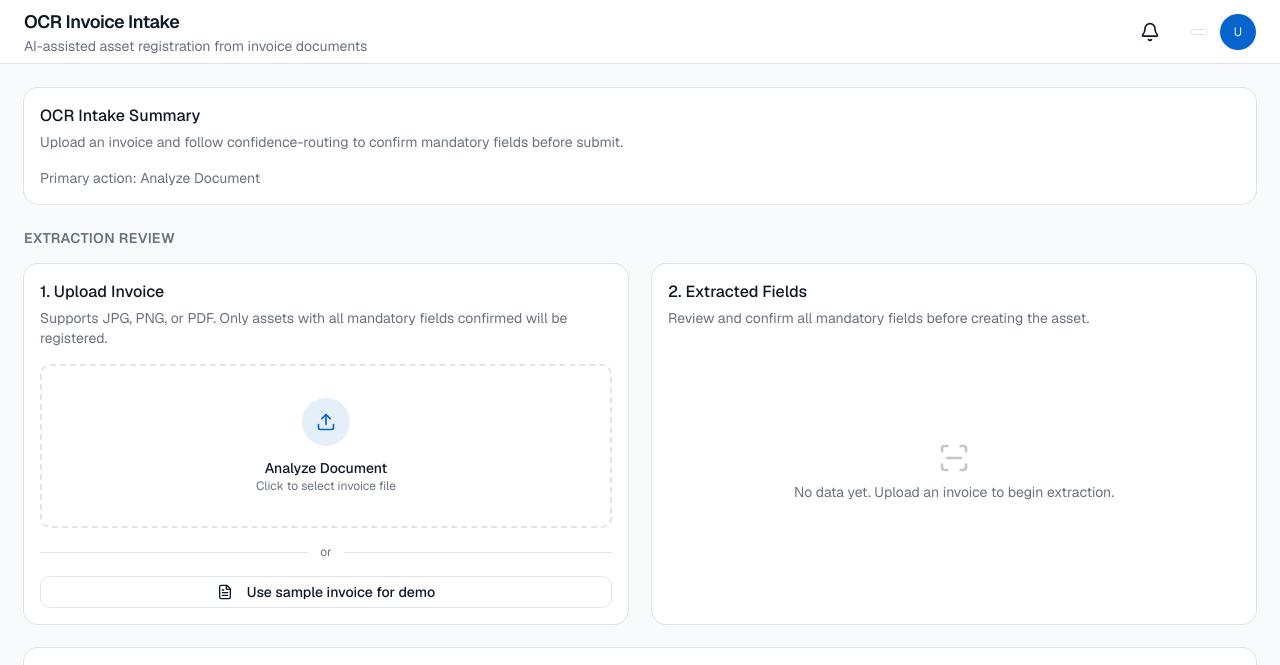
it: OcrPage governance hierarchy and provenance › shows shared Correlation ID label in extraction metadata
Click the button "Use sample invoice for demo" at (326, 592), box [40, 576, 612, 608]
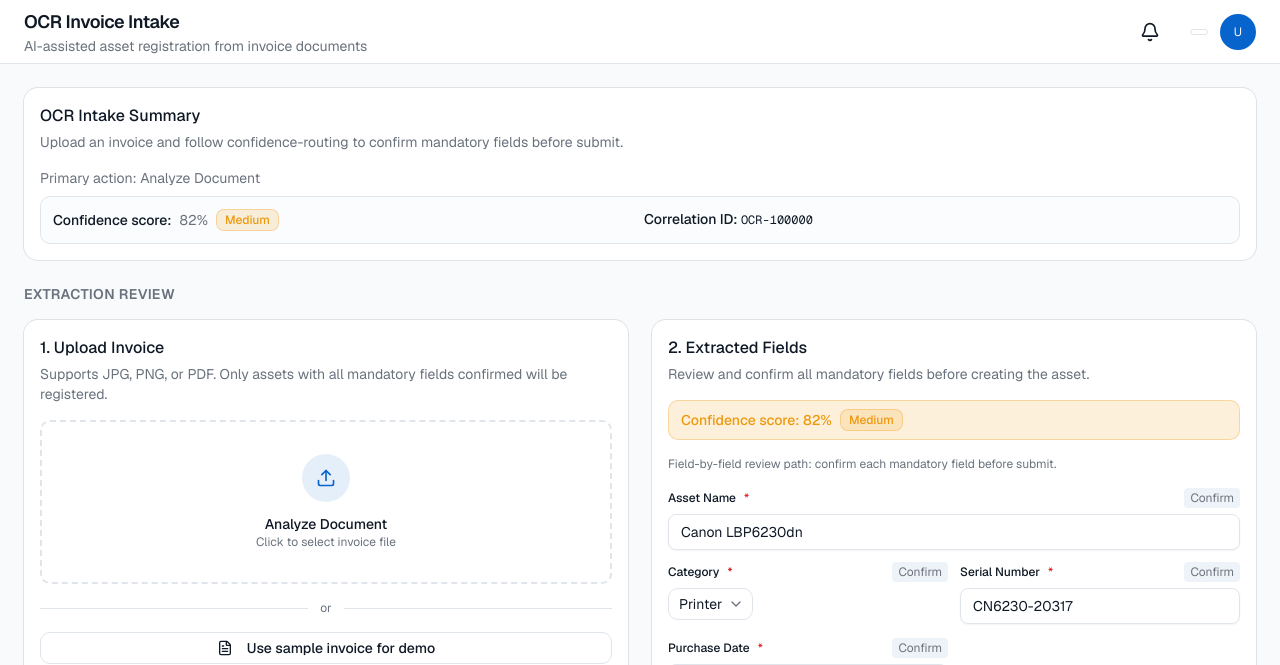
Check: the text "Correlation ID:" is shown, box [644, 210, 737, 228]
